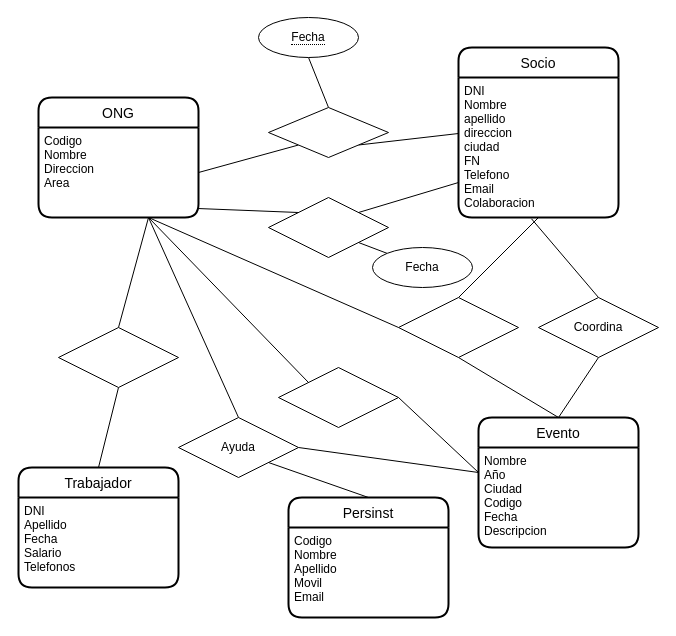
This 676x636 diagram has some shape labels left out. Each missing label, with the centre of its shape:
Organiza: point (338, 397)
Participan: point (458, 327)
Pertenece: point (328, 132)
Preside: point (328, 227)
Tiene: point (118, 357)
